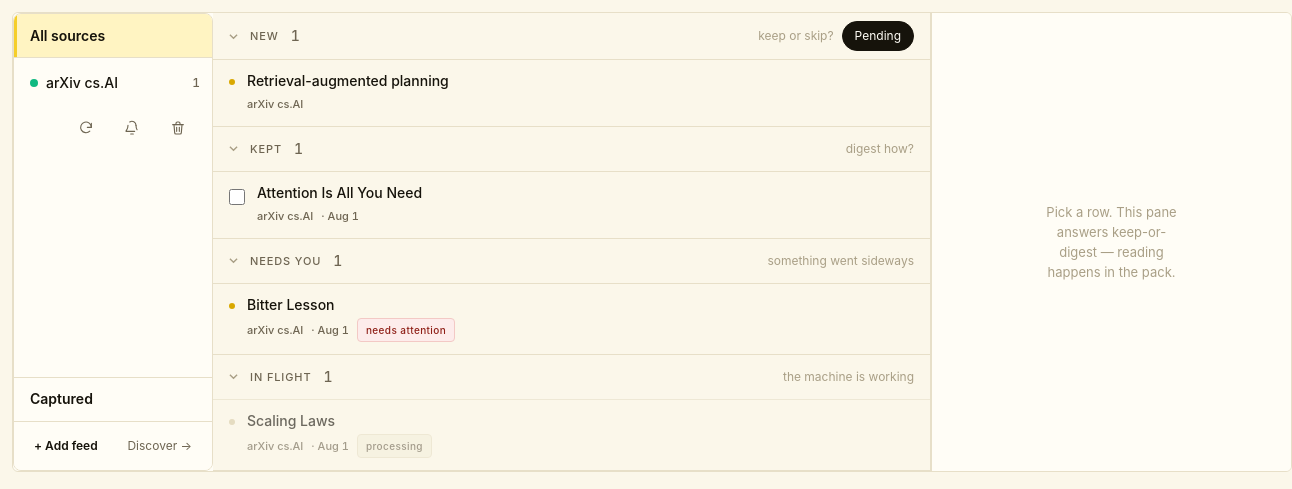
stage sections › collapses a section and remembers it
Click the button "New 1 keep or skip?" at (796, 36), box [229,22,834,50]
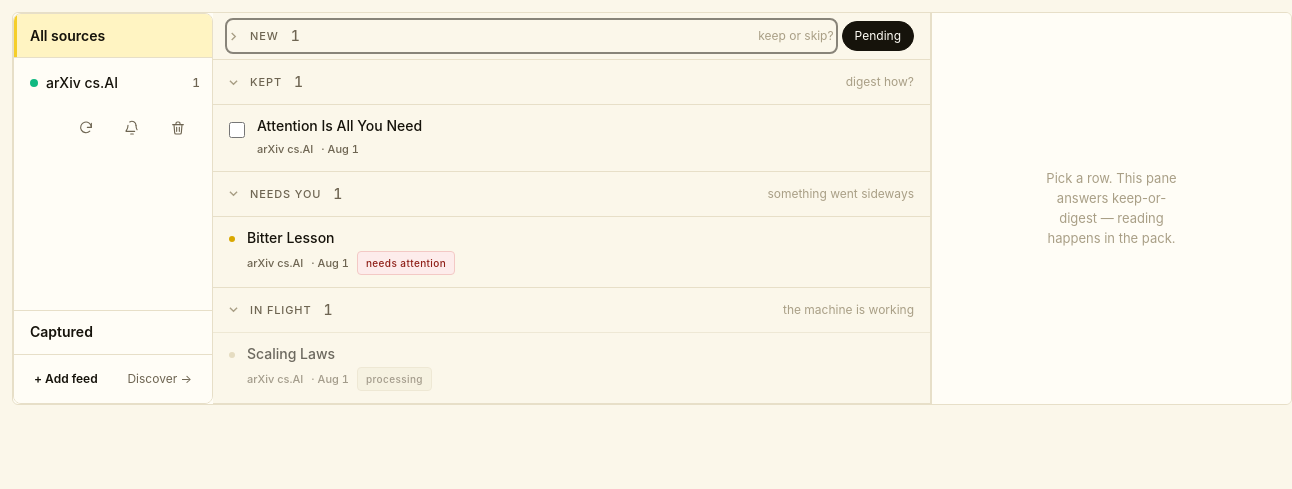
Expected: the button "Retrieval-augmented planning" is gone
